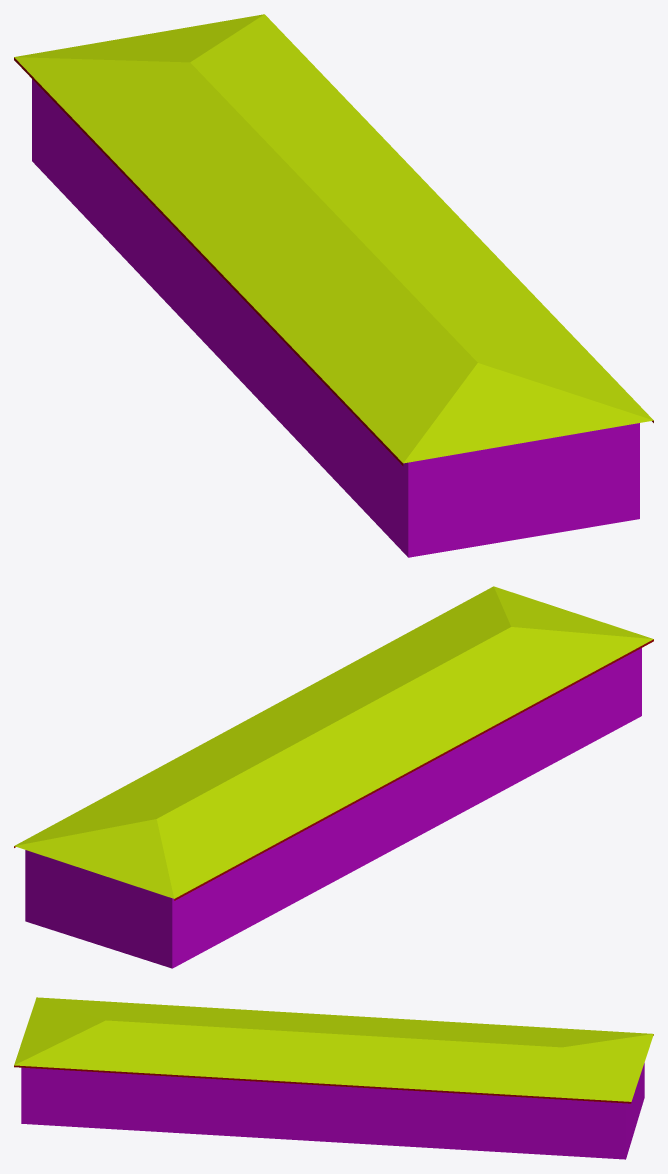
Rendered from bgj_212.glb.
The picture shows the model from 3 angles, top to bottom: view 1: azimuth 30°, elevation 25°; view 2: azimuth 150°, elevation 25°; view 3: azimuth 270°, elevation 25°; orthographic projection. The views are drawn at different scales.
Parts seen in each view (by area): view 1: bgj_212; view 2: bgj_212; view 3: bgj_212.
Part boxes in pixels (x1,y1,x2,y2): bgj_212: [14, 14, 653, 557]; bgj_212: [14, 586, 653, 968]; bgj_212: [14, 997, 653, 1159].
Bounding box in the file's own units: 15.46 × 5.27 × 39.99.
